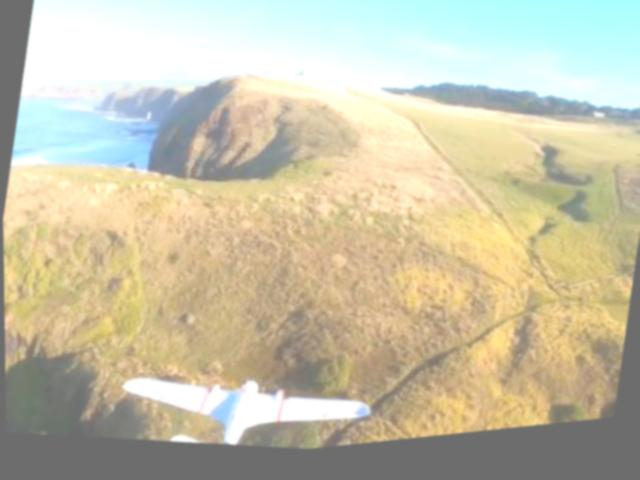uav: (110, 349, 374, 471)
